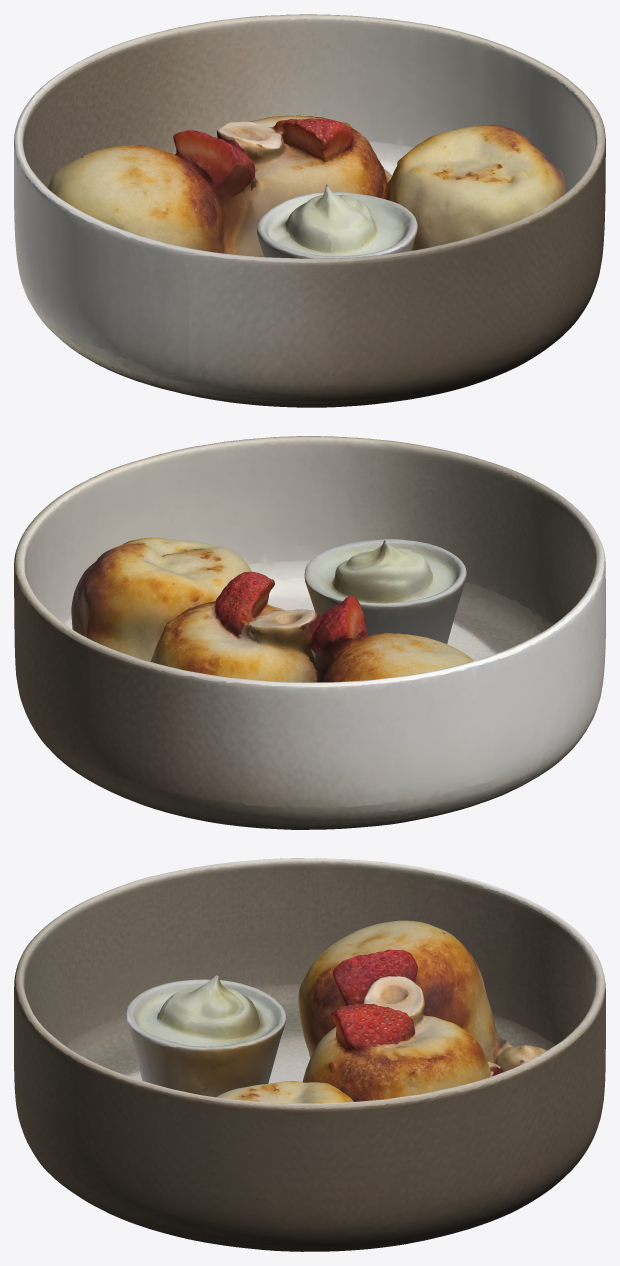
File: setno29.glb
3 renders of one model, top to bottom at view 1: azimuth 30°, elevation 25°; view 2: azimuth 150°, elevation 25°; view 3: azimuth 270°, elevation 25°, orthographic.
Parts seen in each view (by area): view 1: /Root/Scenes/Scene/Object_49/Object_53/Object_54/Submesh_0, /Root/Scenes/Scene/Object_49/Object_50/Submesh_0, /Root/Scenes/Scene/Object_49/Object_388/Object_389/Submesh_0; view 2: /Root/Scenes/Scene/Object_49/Object_53/Object_54/Submesh_0, /Root/Scenes/Scene/Object_49/Object_50/Submesh_0, /Root/Scenes/Scene/Object_49/Object_388/Object_389/Submesh_0; view 3: /Root/Scenes/Scene/Object_49/Object_53/Object_54/Submesh_0, /Root/Scenes/Scene/Object_49/Object_50/Submesh_0, /Root/Scenes/Scene/Object_49/Object_388/Object_389/Submesh_0.
Part boxes in pixels (left/top/right/bottom): /Root/Scenes/Scene/Object_49/Object_53/Object_54/Submesh_0: left=14, top=14, right=605, bottom=407; /Root/Scenes/Scene/Object_49/Object_50/Submesh_0: left=48, top=115, right=565, bottom=256; /Root/Scenes/Scene/Object_49/Object_388/Object_389/Submesh_0: left=256, top=184, right=417, bottom=258; /Root/Scenes/Scene/Object_49/Object_53/Object_54/Submesh_0: left=14, top=436, right=605, bottom=829; /Root/Scenes/Scene/Object_49/Object_50/Submesh_0: left=71, top=537, right=473, bottom=682; /Root/Scenes/Scene/Object_49/Object_388/Object_389/Submesh_0: left=304, top=539, right=466, bottom=643; /Root/Scenes/Scene/Object_49/Object_53/Object_54/Submesh_0: left=14, top=858, right=605, bottom=1251; /Root/Scenes/Scene/Object_49/Object_50/Submesh_0: left=216, top=920, right=546, bottom=1103; /Root/Scenes/Scene/Object_49/Object_388/Object_389/Submesh_0: left=125, top=973, right=286, bottom=1097.
Bounding box in the file's own units: 0.1564 × 0.0487 × 0.1563.
3 materials, 3 textured.
